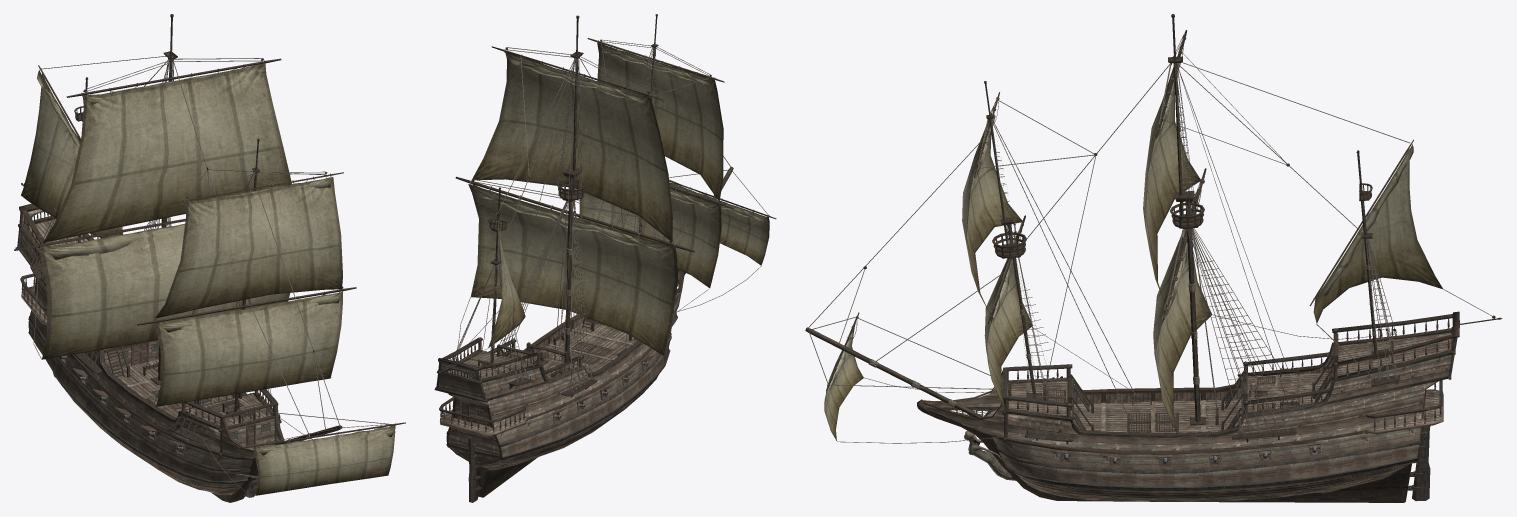
File: Galleon_LOD1.fbx
The picture shows the model from 3 angles, left to right: view 1: azimuth 30°, elevation 25°; view 2: azimuth 150°, elevation 25°; view 3: azimuth 270°, elevation 25°; orthographic projection. The views are drawn at different scales.
Parts seen in each view (by area): view 1: sails1, sails3, burty, polySurface2092, sails_close, maszty1, lines3, poklad, polySurface1953, okna_drzwi, parapety, barierki (+3 smaller); view 2: sails1, sails3, burty, lines3, polySurface2092, maszty1, sails_close, poklad, polySurface1953, barierki, polySurface974, polySurface2093 (+5 smaller); view 3: burty, sails1, polySurface2092, lines3, poklad, maszty1, sails3, polySurface1953, polySurface974, sails_close, polySurface2093, barierki (+7 smaller).
Part boxes in pixels (x1,y1,x2,y2): sails1: [21, 63, 395, 495]; sails3: [22, 63, 394, 494]; burty: [20, 209, 281, 481]; polySurface2092: [15, 203, 284, 484]; sails_close: [37, 65, 395, 455]; maszty1: [14, 14, 405, 448]; lines3: [31, 55, 395, 447]; poklad: [21, 219, 274, 449]; polySurface1953: [52, 359, 244, 495]; okna_drzwi: [119, 342, 270, 446]; parapety: [30, 263, 281, 443]; barierki: [21, 217, 272, 425]; sails1: [468, 43, 769, 355]; sails3: [469, 43, 769, 351]; burty: [438, 272, 683, 456]; lines3: [451, 39, 769, 393]; polySurface2092: [434, 271, 684, 465]; maszty1: [439, 14, 776, 373]; sails_close: [473, 44, 763, 289]; poklad: [439, 321, 637, 436]; polySurface1953: [452, 375, 658, 470]; barierki: [440, 337, 582, 432]; polySurface974: [476, 269, 685, 497]; polySurface2093: [463, 325, 632, 378]; burty: [925, 354, 1451, 486]; sails1: [824, 55, 1442, 440]; polySurface2092: [922, 311, 1459, 490]; lines3: [808, 34, 1412, 437]; poklad: [986, 332, 1451, 434]; maszty1: [805, 14, 1502, 421]; sails3: [824, 54, 1441, 439]; polySurface1953: [1014, 461, 1415, 501]; polySurface974: [917, 399, 1411, 502]; sails_close: [826, 45, 1413, 393]; polySurface2093: [1026, 339, 1393, 432]; barierki: [1017, 318, 1449, 430].
Size of the model in its own units: 31.86 by 48.69 by 63.11.
9 materials, 9 textured.
